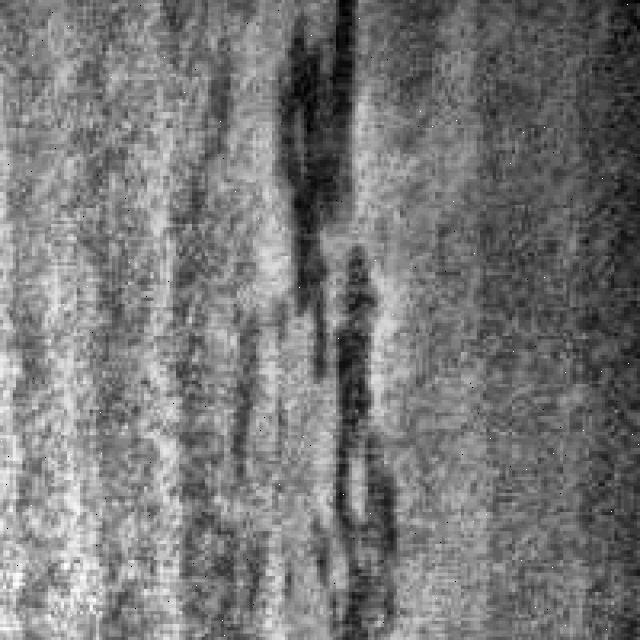Patches: (266, 0, 396, 624)
